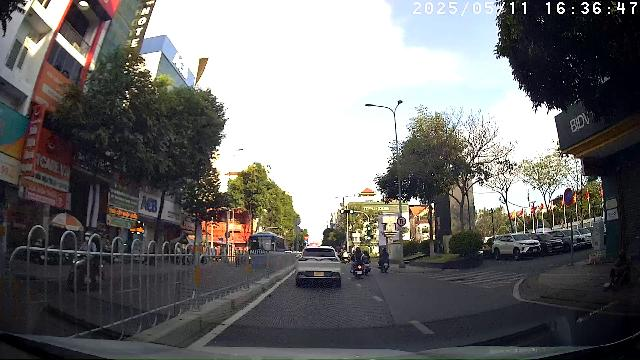124b-cam-oto-quay-dau-xe: (398, 217, 407, 226)
